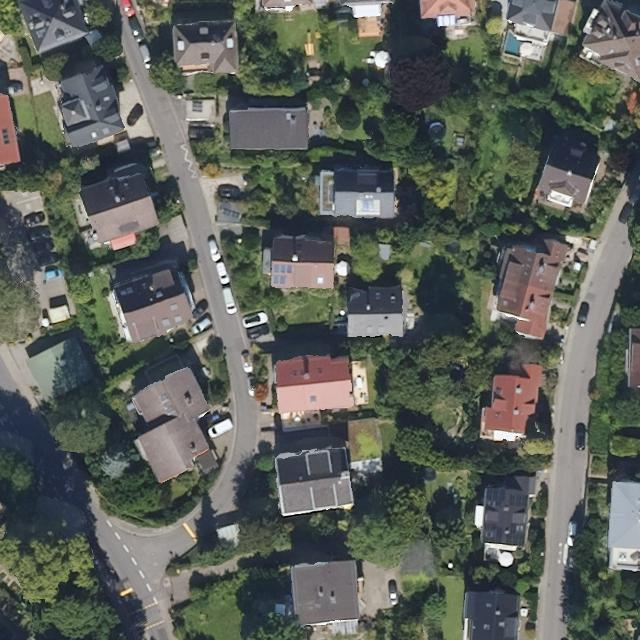PV: (503, 522, 527, 548), (270, 262, 295, 286), (483, 486, 508, 508), (480, 524, 504, 546), (506, 492, 531, 509), (220, 206, 245, 221)
